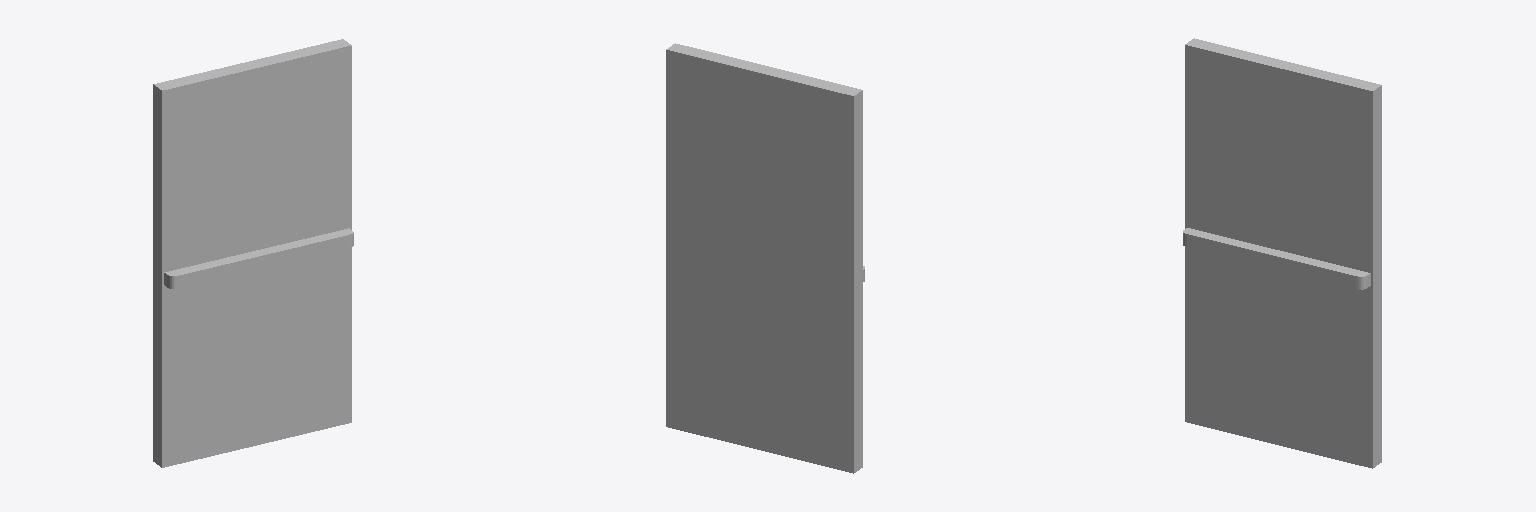
Rendered from sc3_tuer_links.obj.
The picture shows the model from 3 angles: view 1: azimuth 30°, elevation 25°; view 2: azimuth 150°, elevation 25°; view 3: azimuth 330°, elevation 25°; orthographic projection.
Parts seen in each view (by area): view 1: Tuer; view 2: Tuer; view 3: Tuer.
Part boxes in pixels (x1,y1,x2,y2): Tuer: (153, 39, 353, 467); Tuer: (666, 43, 864, 473); Tuer: (1183, 38, 1381, 468).
Bounding box in the file's own units: 2.52 × 4.8 × 0.3807.